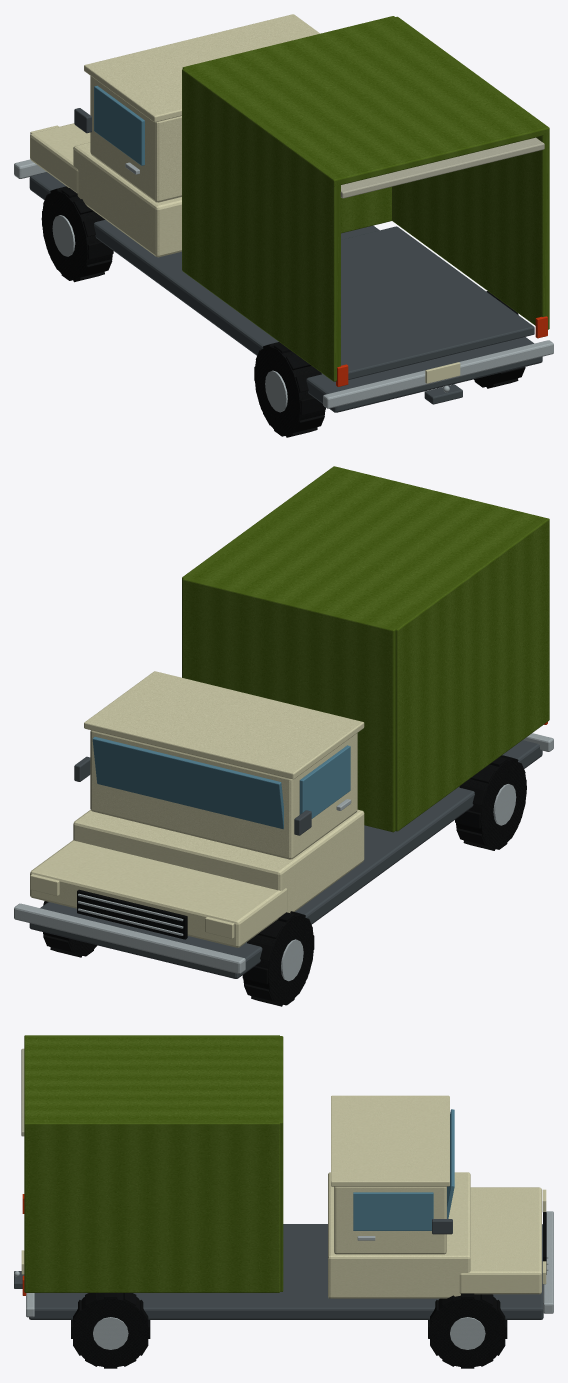
Rendered from LandscapingTruck.gltf.
3 views of the same model, one above another, from view 1: azimuth 30°, elevation 25°; view 2: azimuth 150°, elevation 25°; view 3: azimuth 270°, elevation 25° (orthographic). The views are drawn at different scales.
Parts seen in each view (by area): view 1: LandscapingTruck__Body, LandscapingTruck__Wheel_RL, LandscapingTruck__Wheel_FL, LandscapingTruck__Wheel_RR; view 2: LandscapingTruck__Body, LandscapingTruck__Wheel_FL, LandscapingTruck__Wheel_RL, LandscapingTruck__Wheel_FR; view 3: LandscapingTruck__Body, LandscapingTruck__Wheel_RR, LandscapingTruck__Wheel_FR.
Boxes of the visible parts, x1=… form: LandscapingTruck__Body: x1=14, y1=14, x2=553, y2=412; LandscapingTruck__Wheel_RL: x1=254, y1=342, x2=325, y2=437; LandscapingTruck__Wheel_FL: x1=41, y1=186, x2=113, y2=282; LandscapingTruck__Wheel_RR: x1=474, y1=291, x2=525, y2=388; LandscapingTruck__Body: x1=14, y1=466, x2=553, y2=981; LandscapingTruck__Wheel_FL: x1=242, y1=911, x2=314, y2=1006; LandscapingTruck__Wheel_RL: x1=455, y1=755, x2=526, y2=850; LandscapingTruck__Wheel_FR: x1=43, y1=901, x2=97, y2=957; LandscapingTruck__Body: x1=14, y1=1035, x2=553, y2=1349; LandscapingTruck__Wheel_RR: x1=71, y1=1293, x2=150, y2=1368; LandscapingTruck__Wheel_FR: x1=428, y1=1293, x2=507, y2=1368.
Size of the model in its own units: 2.1 by 2.53 by 5.08.
Materials: 3 (1 with a texture image).
